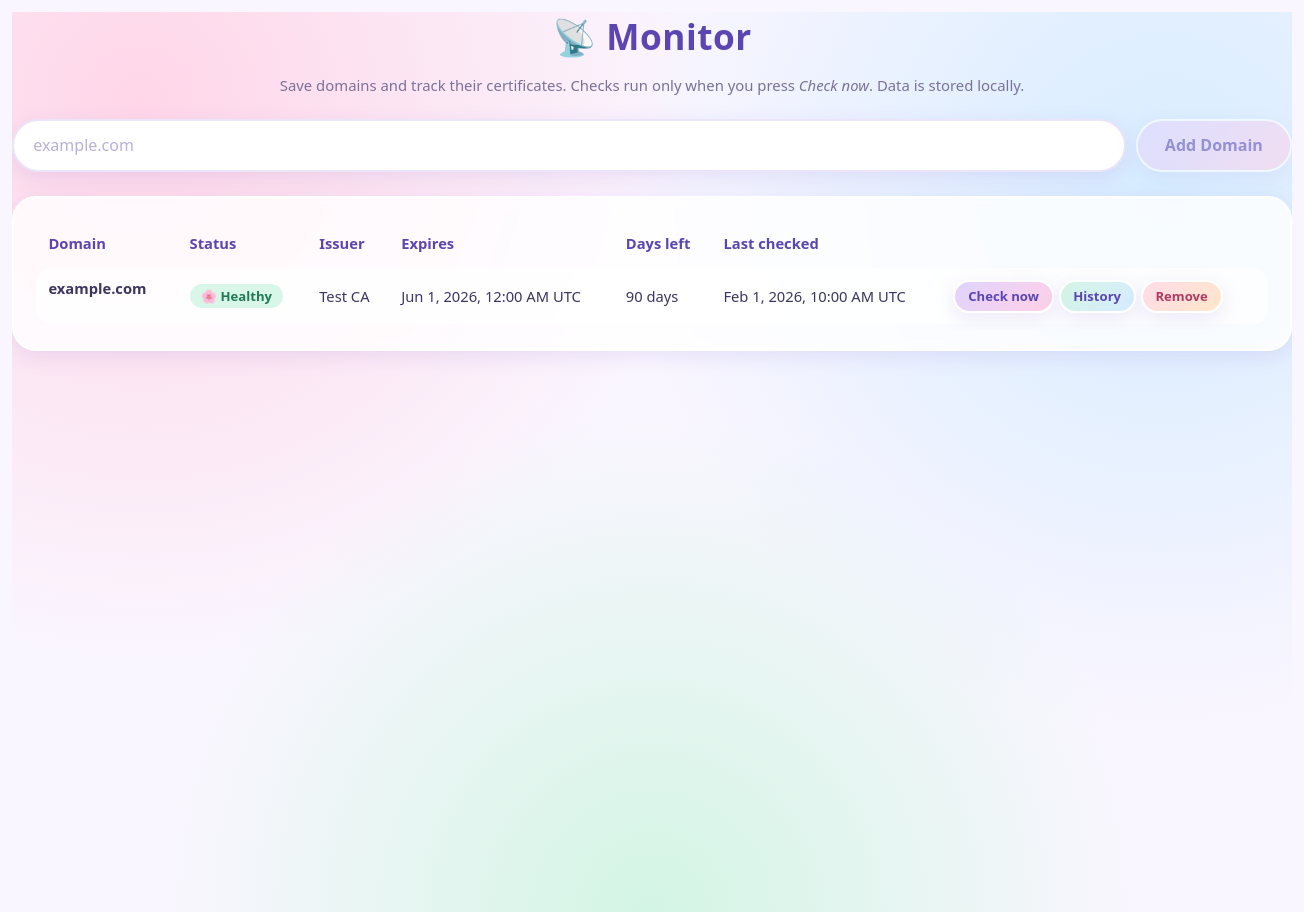
Test: MonitorPage › shows the server message when a check is rate limited
The image size is (1304, 912).
Click the button with aria-label "check example.com now".
click(1004, 296)  # box [953,280,1054,313]
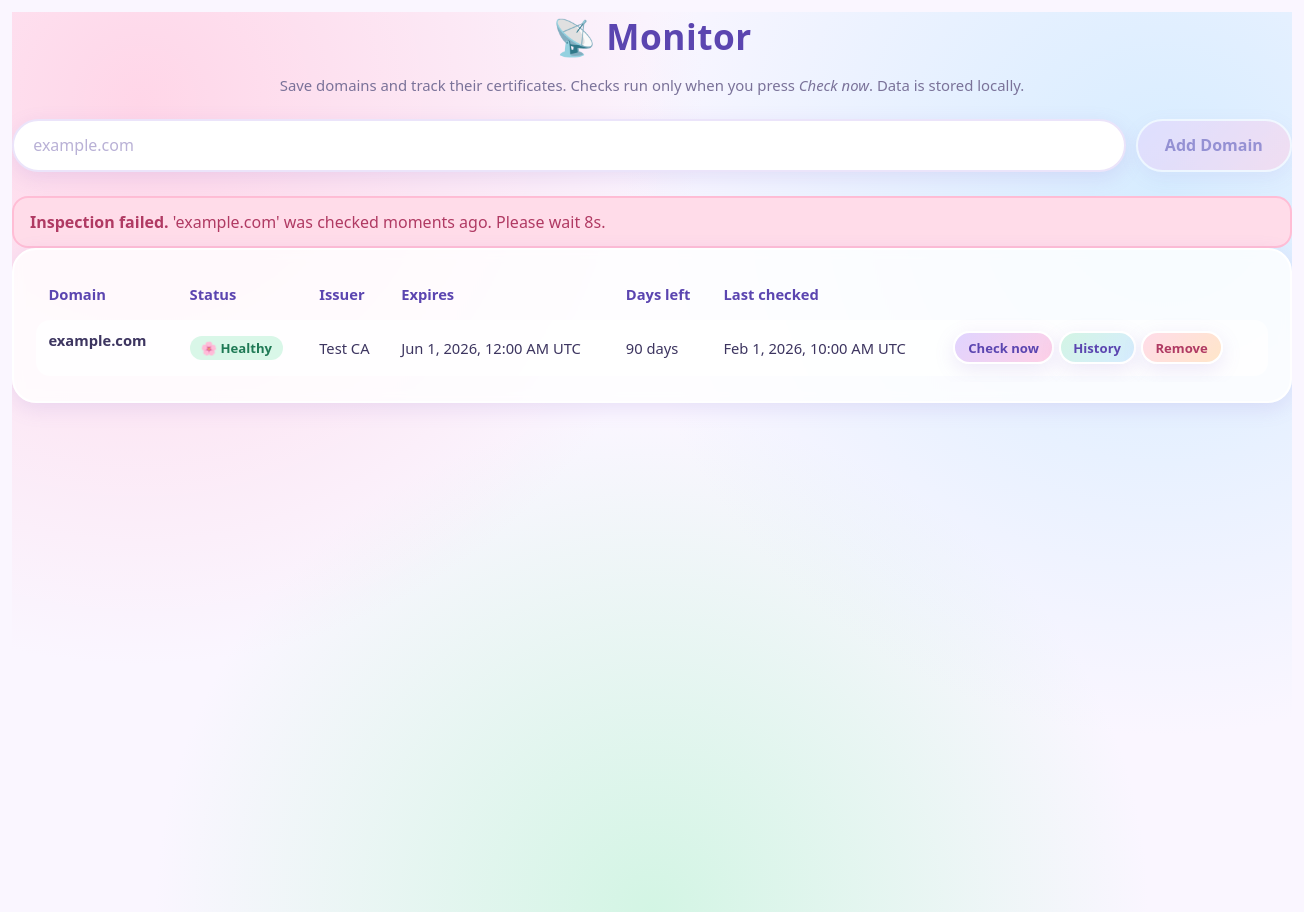
Now the message shows "Please wait 8s", box [173,211,605,233]
